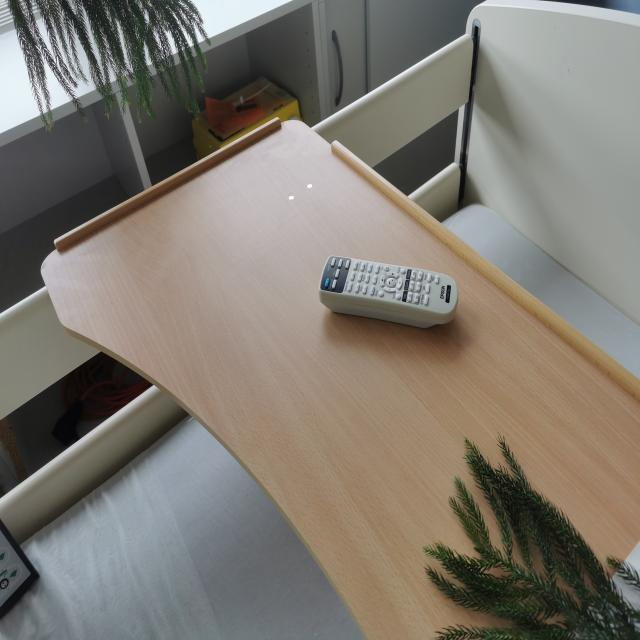remote: (317, 251, 459, 328)
